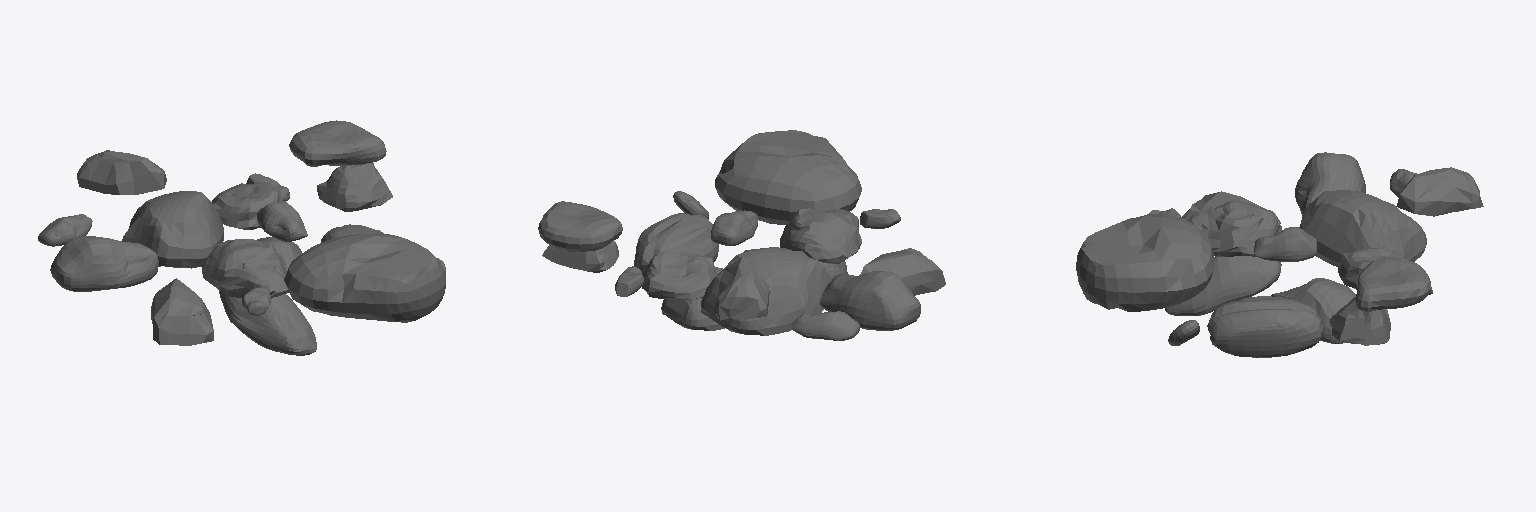
File: stones.obj
3 views of the same model, side by side, from view 1: azimuth 30°, elevation 25°; view 2: azimuth 150°, elevation 25°; view 3: azimuth 270°, elevation 25° (orthographic).
Visible parts, largest first — view 1: stones_Box04; view 2: stones_Box04; view 3: stones_Box04.
Boxes of the visible parts, x1=… form: stones_Box04: x1=38, y1=120, x2=445, y2=355; stones_Box04: x1=538, y1=130, x2=945, y2=340; stones_Box04: x1=1076, y1=152, x2=1483, y2=357.
Size of the model in its own units: 0.9781 by 0.3164 by 0.9949.